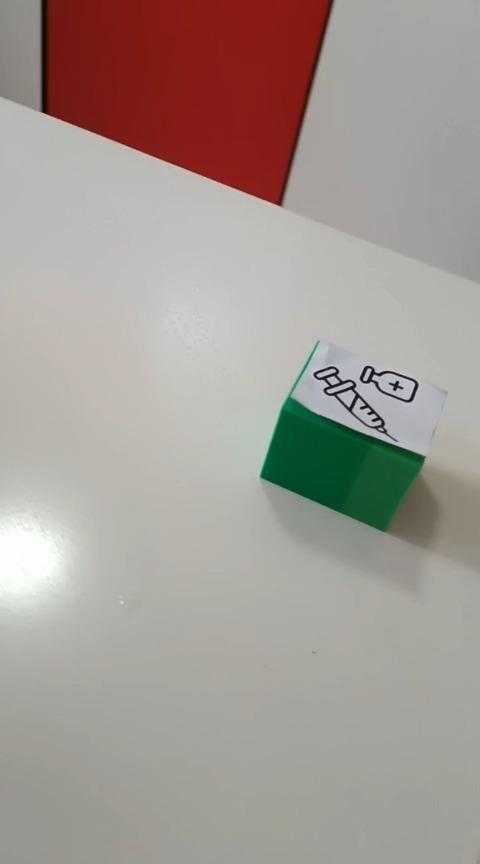antiseptic cream: (258, 337, 448, 532)
